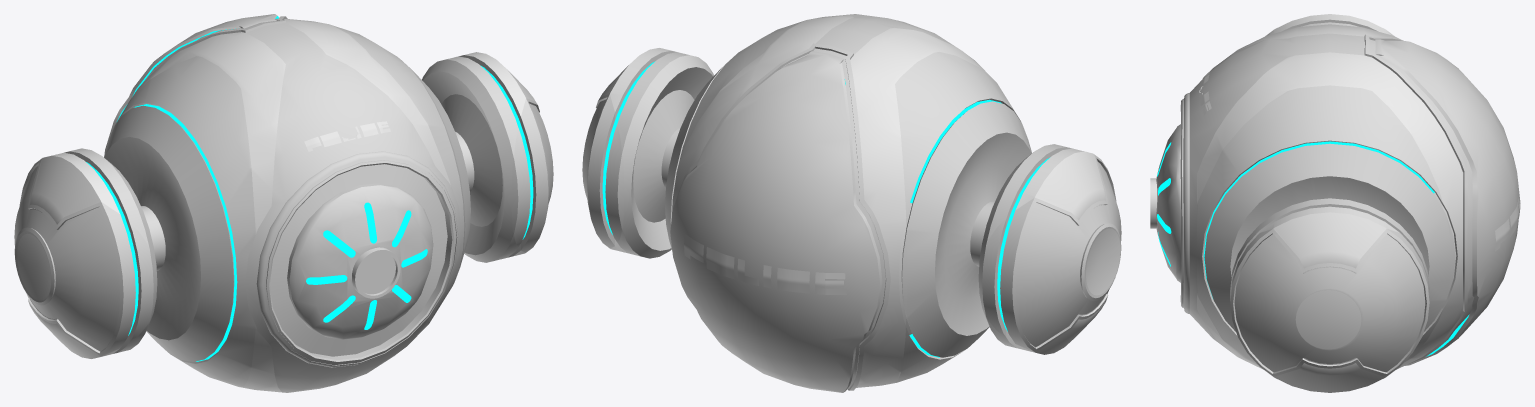
Rendered from Drone.fbx.
3 views of the same model, side by side, from view 1: azimuth 30°, elevation 25°; view 2: azimuth 150°, elevation 25°; view 3: azimuth 270°, elevation 25° (orthographic). The views are drawn at different scales.
Visible parts, largest first — view 1: Sphere.006; view 2: Sphere.006; view 3: Sphere.006.
Part boxes in pixels (<box>): Sphere.006: <box>14,14,553,392</box>; Sphere.006: <box>582,14,1121,392</box>; Sphere.006: <box>1150,14,1520,392</box>.
Size of the model in its own units: 311 by 200 by 206.
